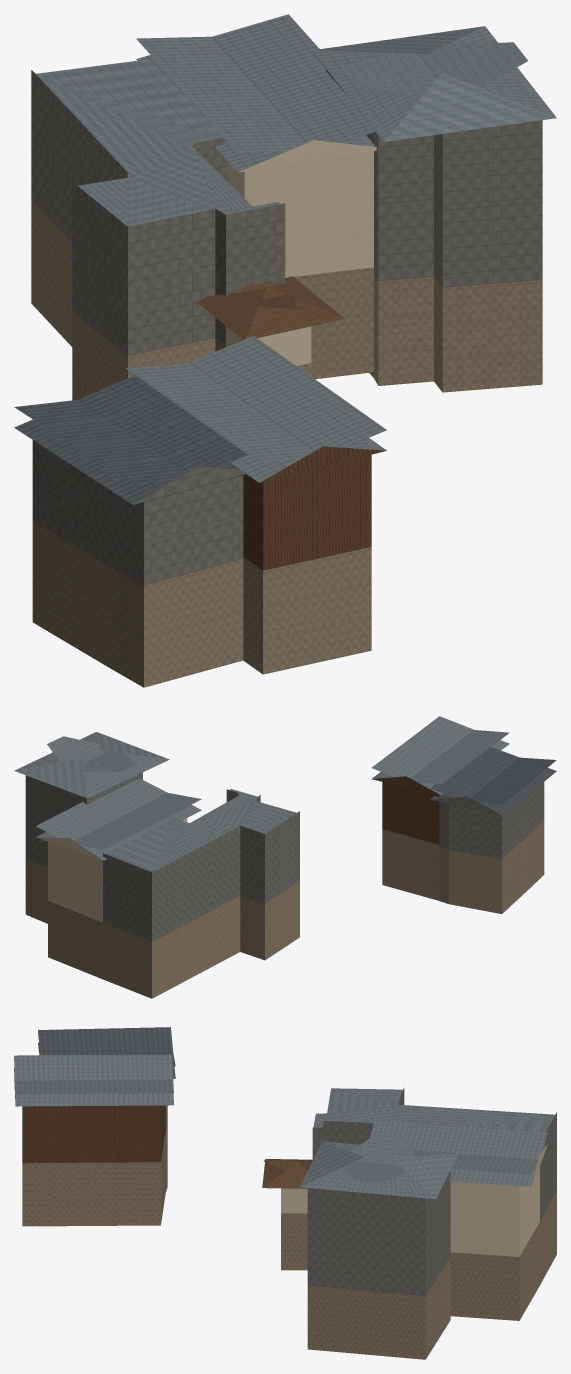
The model's file is bld_c35_-28_446.gltf.
3 renders of one model, top to bottom at view 1: azimuth 30°, elevation 25°; view 2: azimuth 150°, elevation 25°; view 3: azimuth 270°, elevation 25°, orthographic. The views are drawn at different scales.
Visible parts, largest first — view 1: bld_c35_-28_446; view 2: bld_c35_-28_446; view 3: bld_c35_-28_446.
Boxes of the visible parts, bbox=[...] form: bld_c35_-28_446: bbox=[14, 14, 556, 687]; bld_c35_-28_446: bbox=[14, 716, 556, 998]; bld_c35_-28_446: bbox=[14, 1027, 556, 1359].
Bounding box in the file's own units: 35.04 × 14.1 × 39.24.
Materials: 10 (10 with a texture image).
